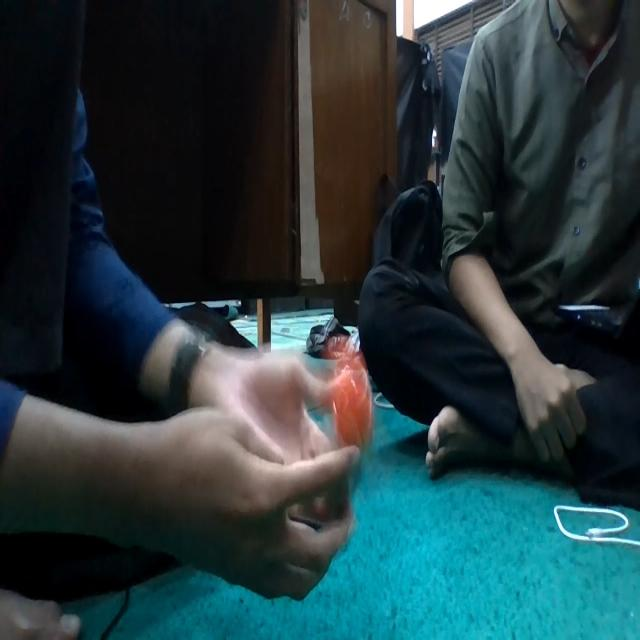Boncabe: (330, 362, 372, 450)
